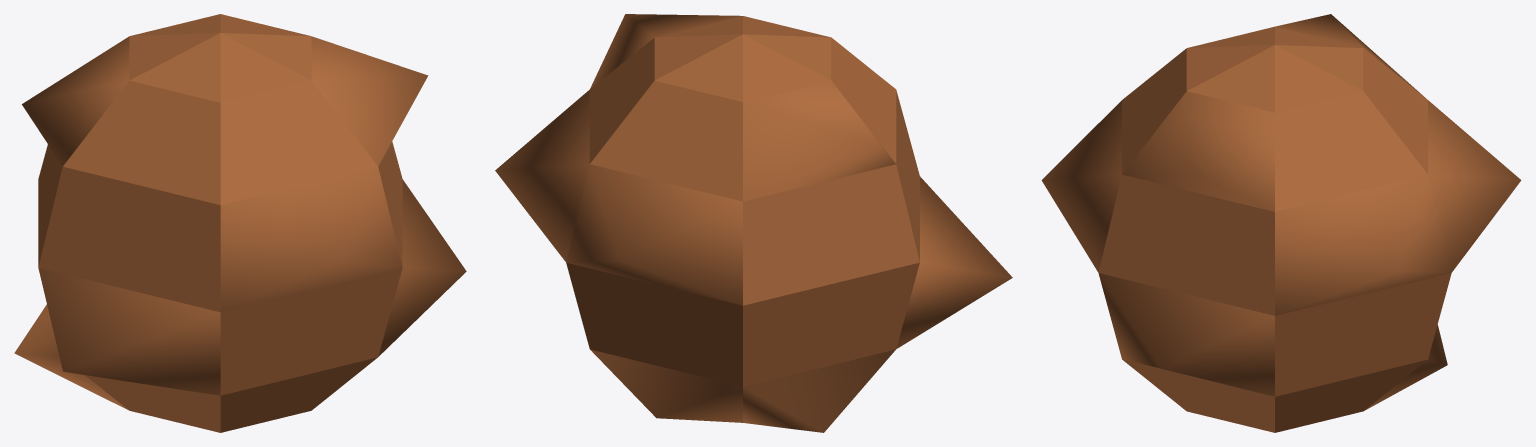
Rendered from plasma.fbx.
The picture shows the model from 3 angles, left to right: view 1: azimuth 30°, elevation 25°; view 2: azimuth 150°, elevation 25°; view 3: azimuth 270°, elevation 25°; orthographic projection. The views are drawn at different scales.
Parts seen in each view (by area): view 1: plasma:pSphere11; view 2: plasma:pSphere11; view 3: plasma:pSphere11.
Boxes of the visible parts, box(x1,y1,x2,y2) form: plasma:pSphere11: box(14, 14, 466, 432); plasma:pSphere11: box(495, 14, 1012, 432); plasma:pSphere11: box(1041, 14, 1521, 432).
Bounding box in the file's own units: 42.87 × 38.24 × 45.
